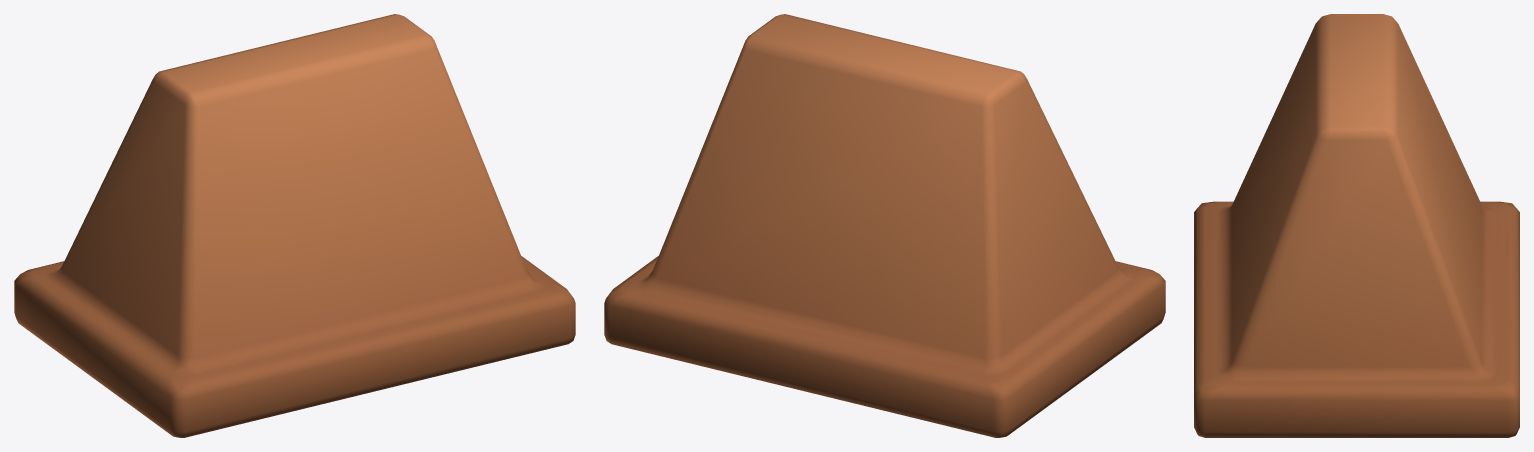
Rendered from candy_choco_8.fbx.
3 views of the same model, side by side, from view 1: azimuth 30°, elevation 25°; view 2: azimuth 150°, elevation 25°; view 3: azimuth 270°, elevation 25° (orthographic). The views are drawn at different scales.
Visible parts, largest first — view 1: c_c_8; view 2: c_c_8; view 3: c_c_8.
Part boxes in pixels (x1=…): c_c_8: x1=14, y1=14, x2=575, y2=437; c_c_8: x1=604, y1=14, x2=1165, y2=437; c_c_8: x1=1194, y1=14, x2=1519, y2=437.
Bounding box in the file's own units: 134 × 88.84 × 95.22.
